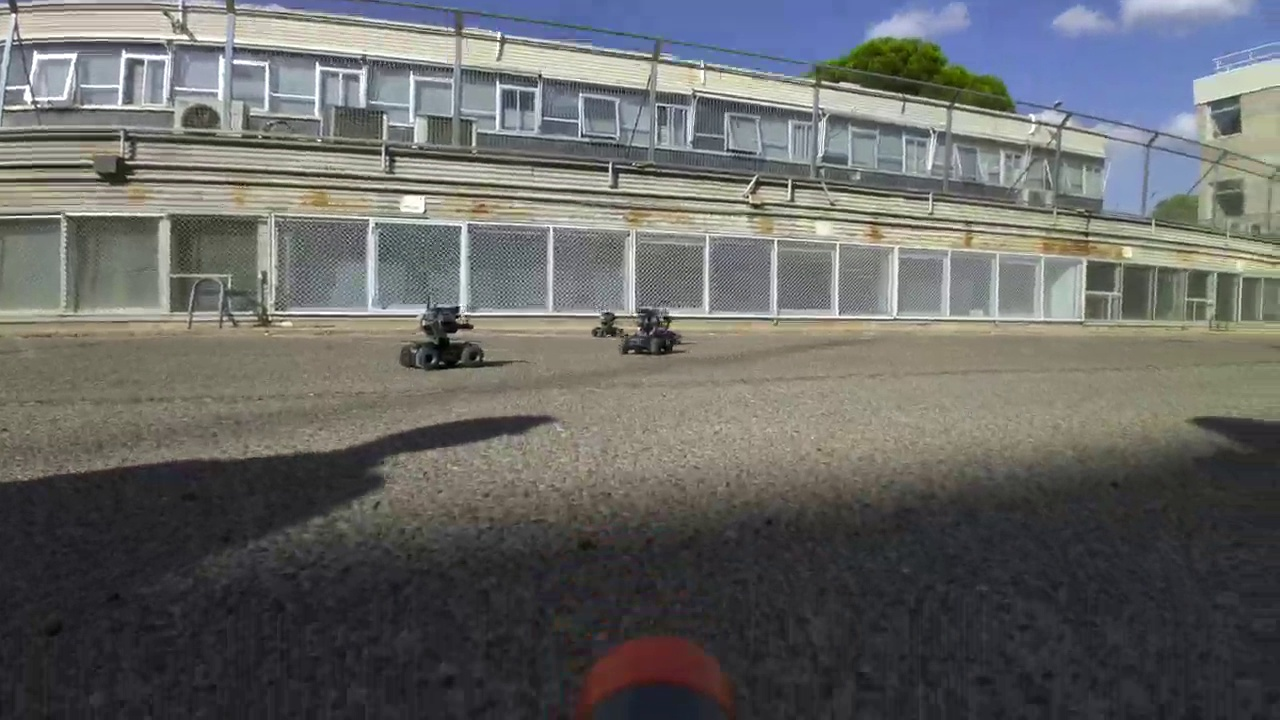robot: (398, 299, 486, 370), (625, 306, 680, 356), (596, 308, 621, 340)
